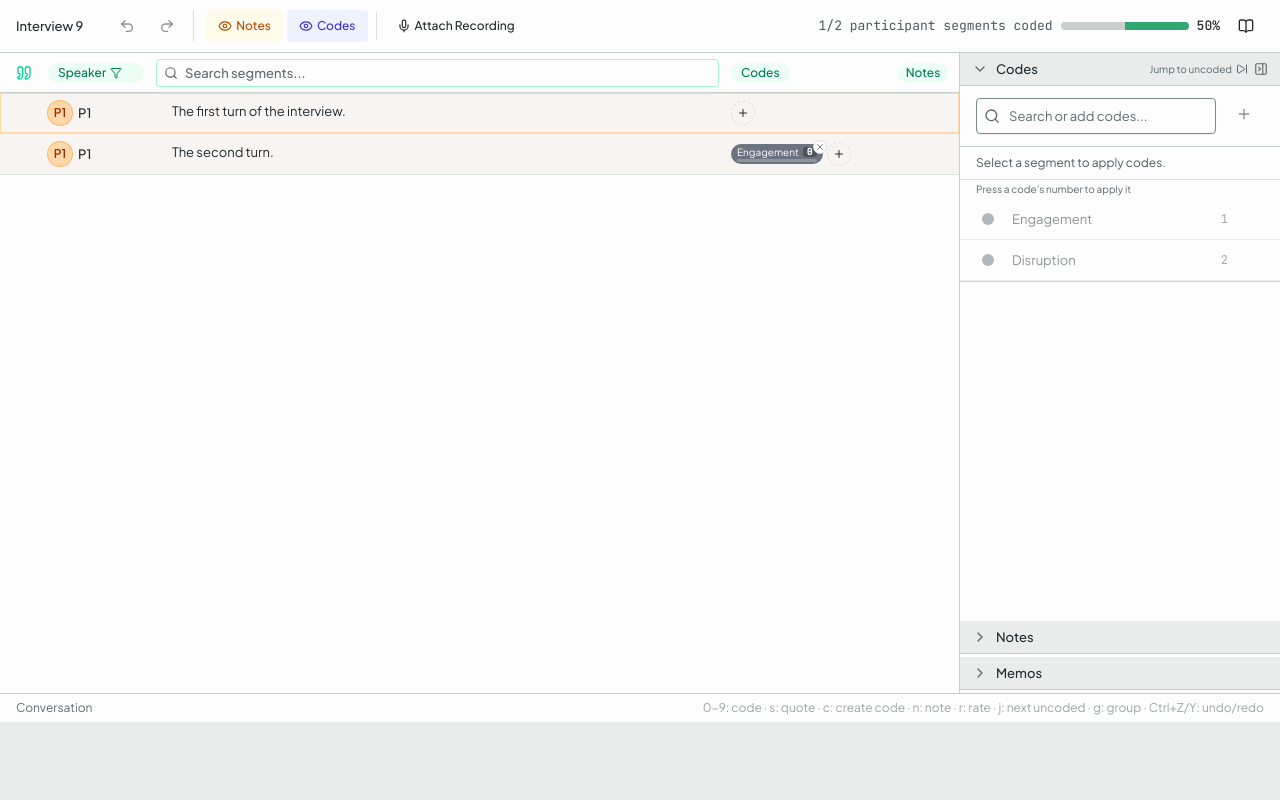
Test case: an apply that REPLACED a value, and its undo (#1028) › paints the replaced chip away, and Ctrl+Z puts it back WITH its rating — a ZERO
Press the mouse on the option "P1 P1 The second turn. Engagement 0" at (223, 152), box x1=0 y1=134 x2=959 y2=174
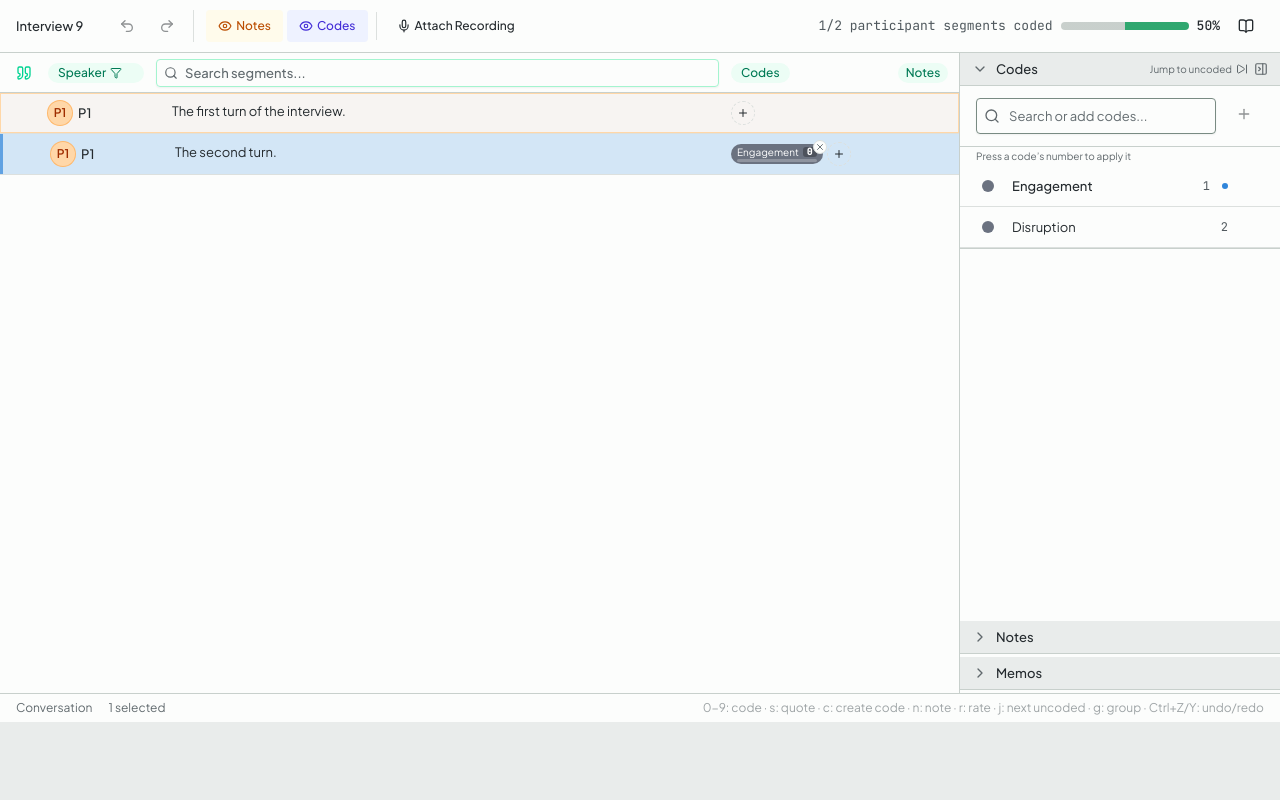
Expected: the text "Engagement" in the row of "The second turn." is shown, x1=737 y1=146 x2=799 y2=158
Press 2
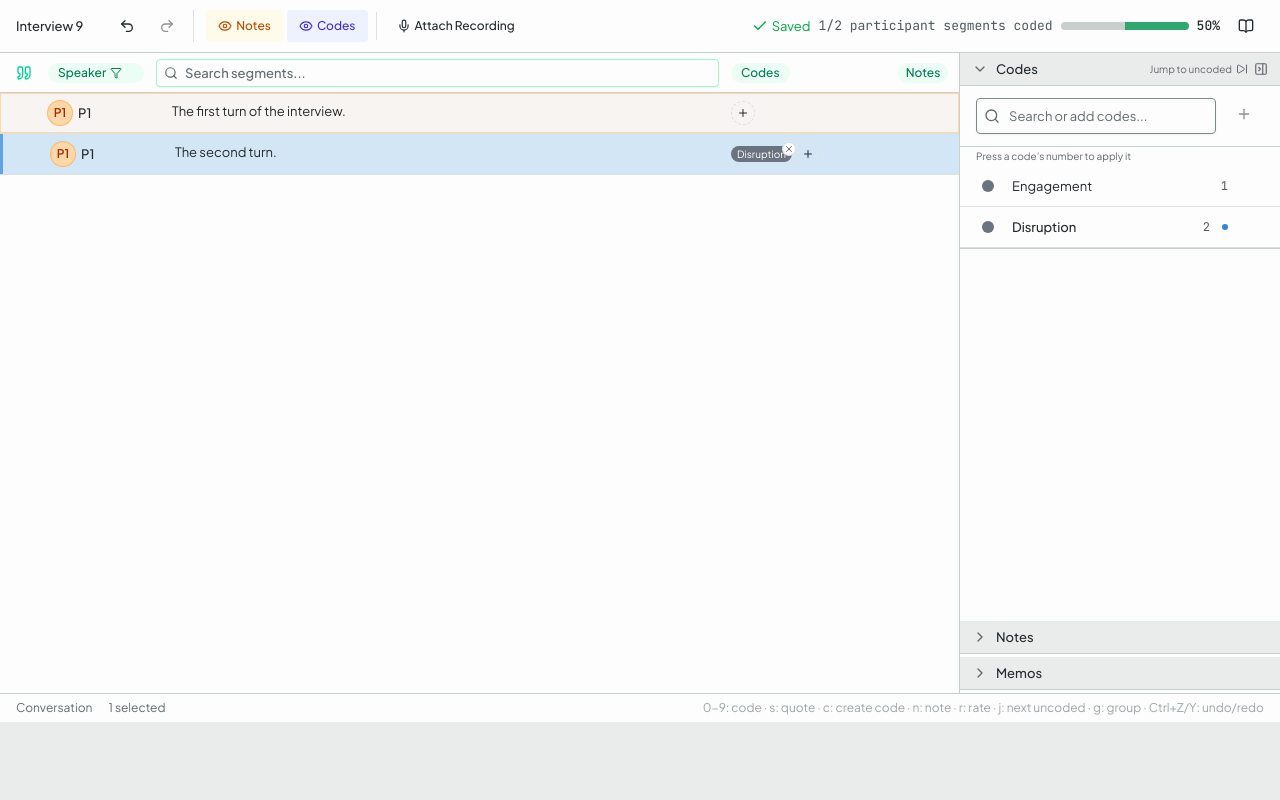
Result: the button named "Undo" is enabled at x1=109 y1=8 x2=145 y2=44
Press z
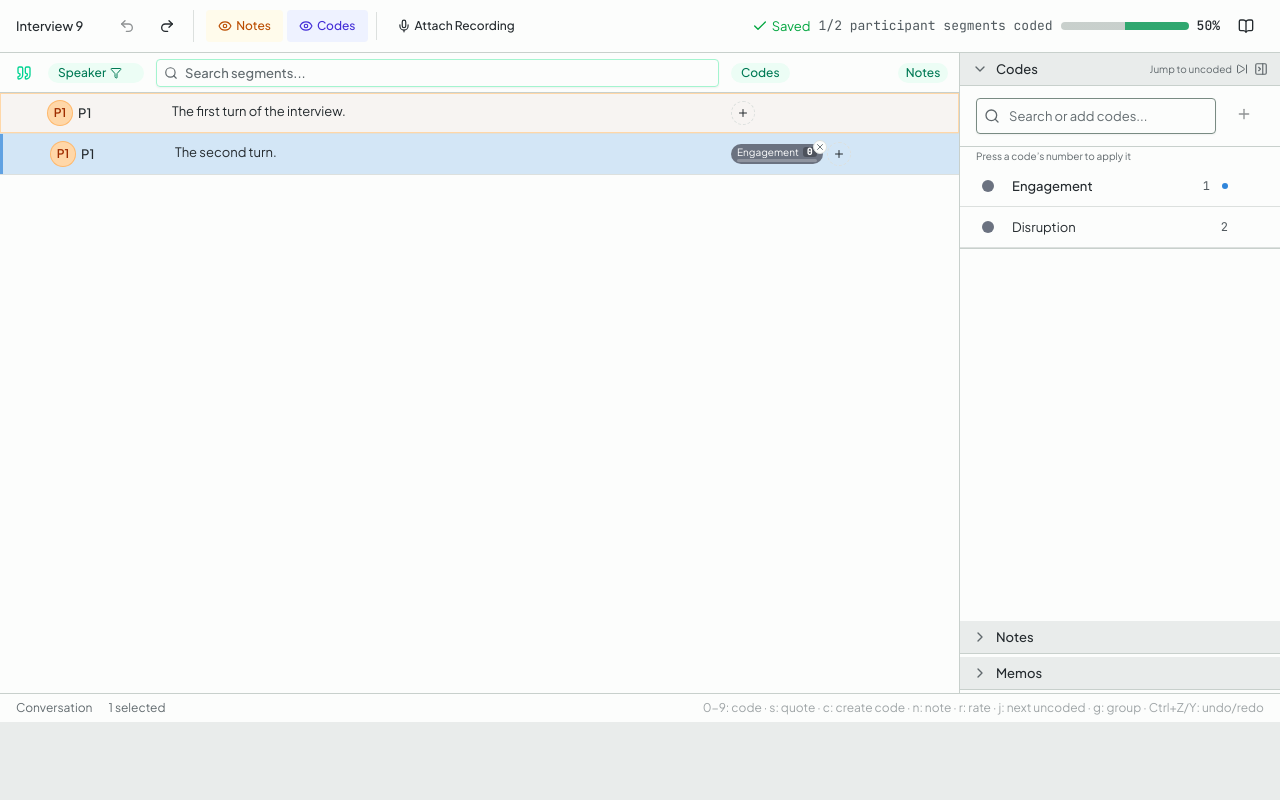
Result: the text "Engagement" in the row of "The second turn." is shown at x1=737 y1=146 x2=799 y2=158
